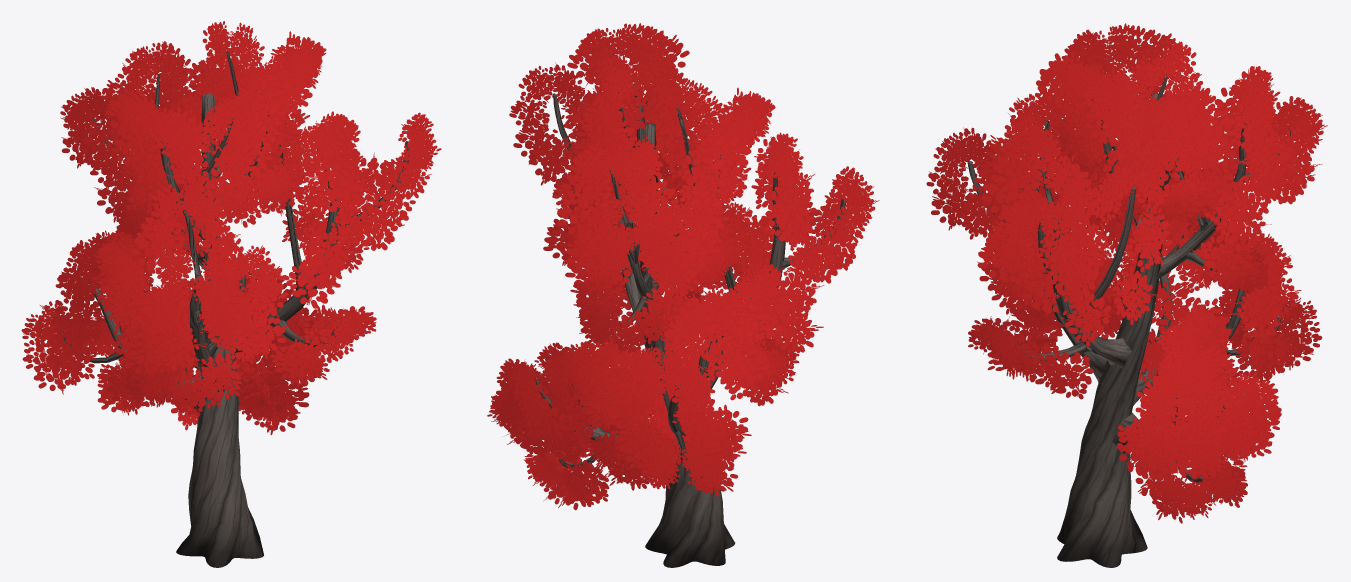
File: TwistedTree_3.glb
3 renders of one model, left to right at view 1: azimuth 30°, elevation 25°; view 2: azimuth 150°, elevation 25°; view 3: azimuth 270°, elevation 25°, orthographic. The views are drawn at different scales.
Parts seen in each view (by area): view 1: TwistedTree_3; view 2: TwistedTree_3; view 3: TwistedTree_3.
Part boxes in pixels (bbox=[...]): TwistedTree_3: bbox=[21, 21, 441, 567]; TwistedTree_3: bbox=[487, 23, 879, 567]; TwistedTree_3: bbox=[926, 23, 1327, 567].
Bounding box in the file's own units: 11.36 × 16.07 × 11.51.
Materials: 2 (2 with a texture image).
